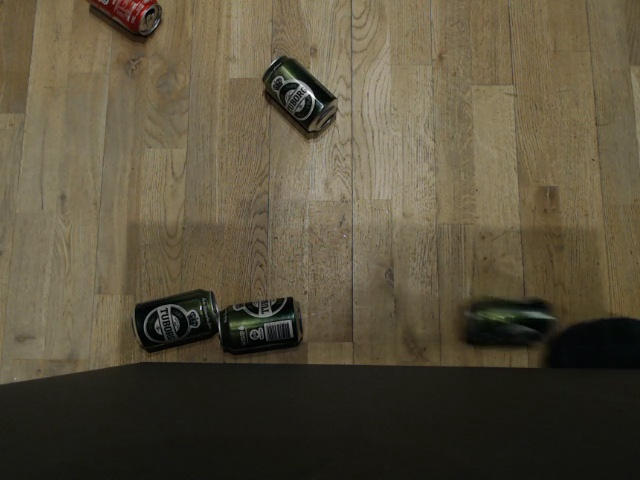beer: (255, 49, 342, 142), (132, 287, 217, 353), (461, 295, 560, 350), (218, 295, 311, 352)
cola: (86, 0, 168, 38)
